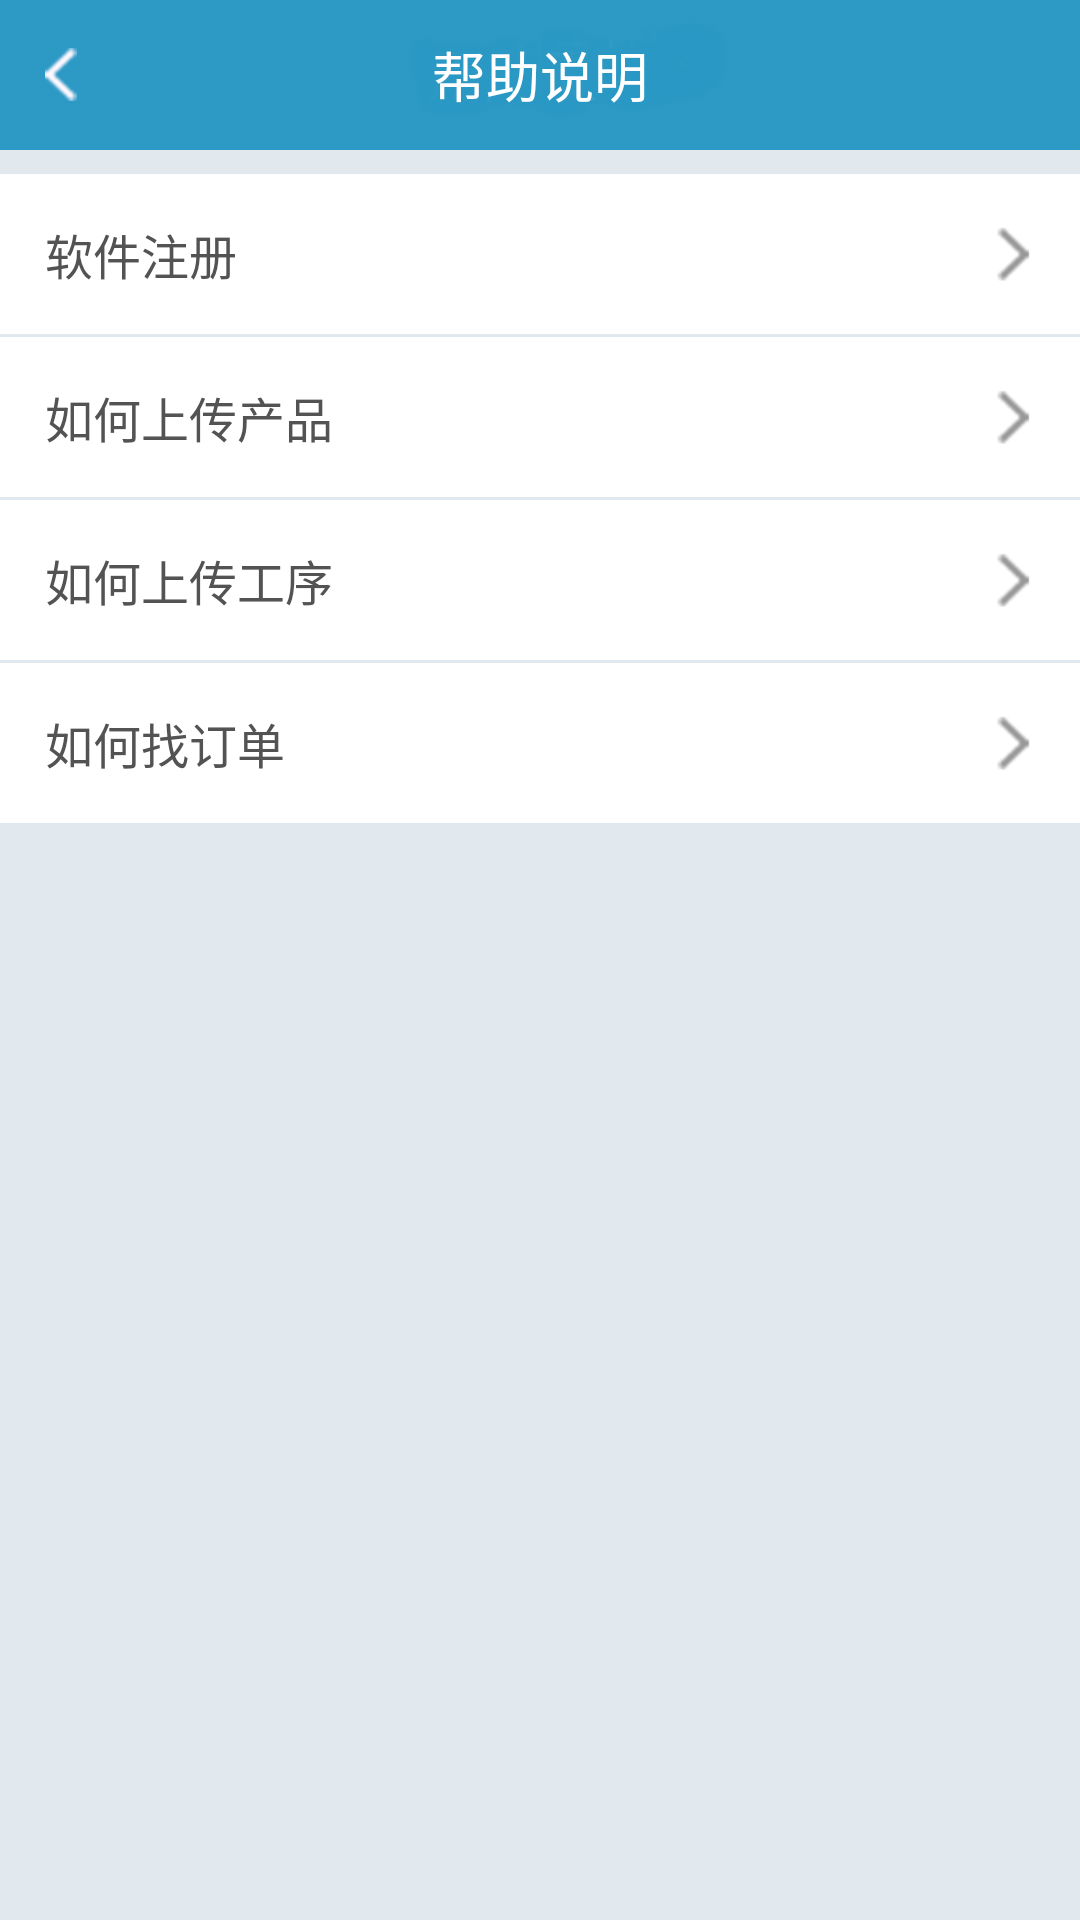

Where to tap for icons on this 1080 × 1920 app screen, as point (x, y):
back: point (61, 74)
